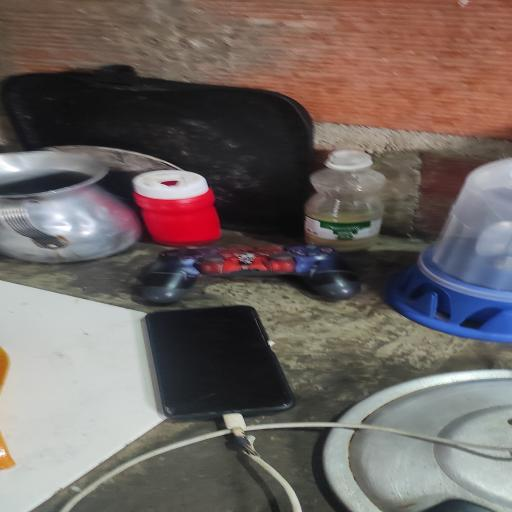ControlPlay4: (140, 245, 360, 304)
